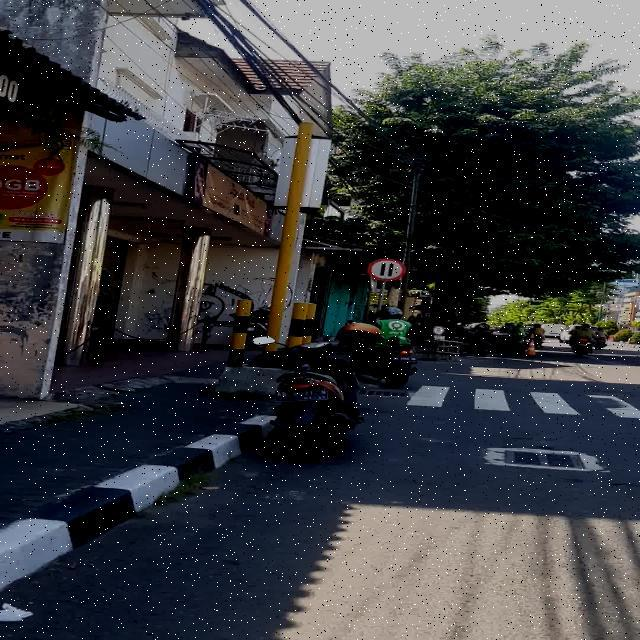Larangan Muatan - 10 ton: (368, 258, 405, 280)
